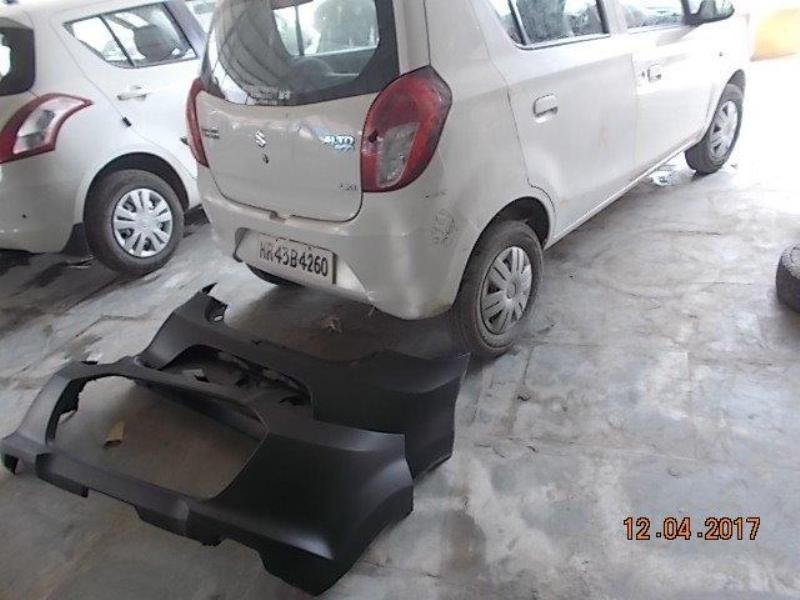Scratch_or_spot: (424, 204, 461, 246)
